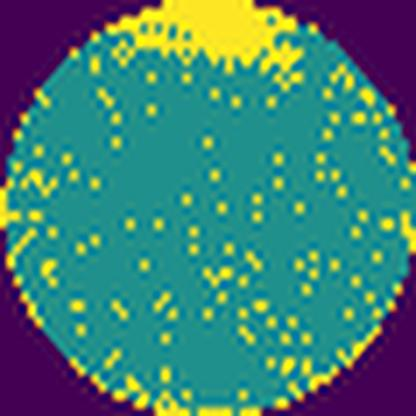Edge-Loc: (106, 0, 306, 74)
